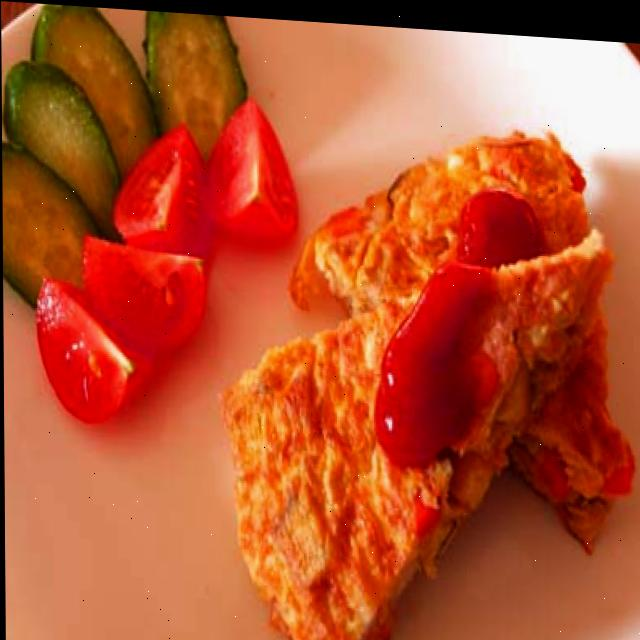鸡蛋料理: (1, 109, 605, 640)
